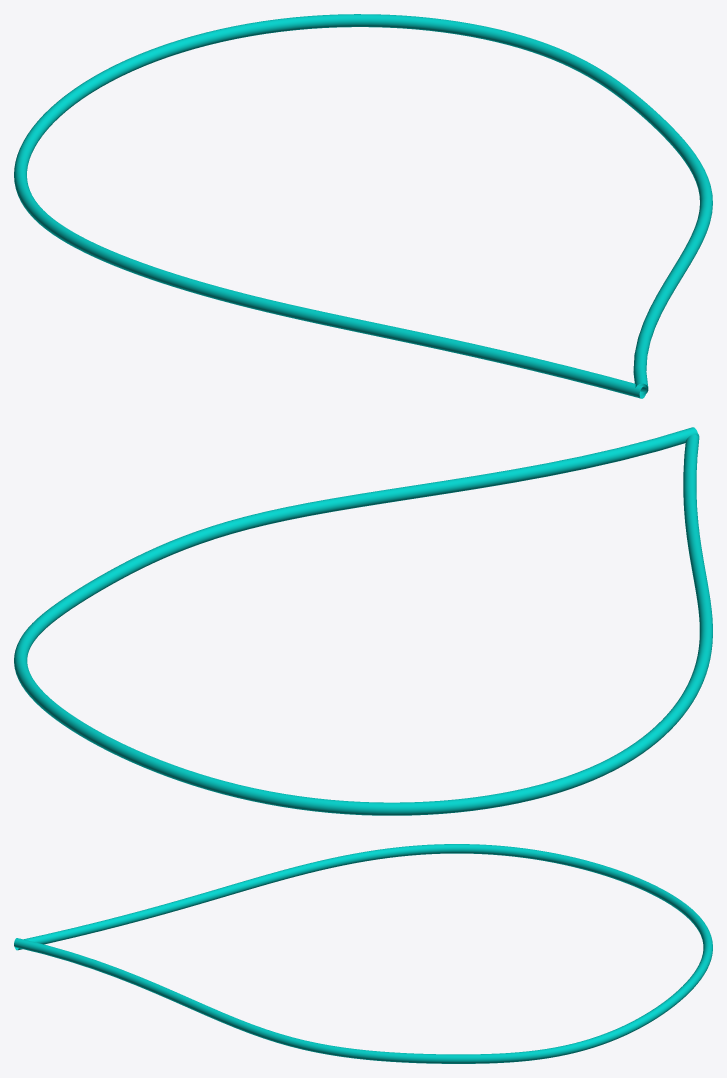
File: car02_circle.dae
3 views of the same model, one above another, from view 1: azimuth 30°, elevation 25°; view 2: azimuth 150°, elevation 25°; view 3: azimuth 270°, elevation 25° (orthographic). The views are drawn at different scales.
Parts seen in each view (by area): view 1: NurbsPath; view 2: NurbsPath; view 3: NurbsPath.
Part boxes in pixels (x1,y1,x2,y2): NurbsPath: (14,14,712,398); NurbsPath: (14,427,712,815); NurbsPath: (14,844,712,1063).
Bounding box in the file's own units: 18.09 × 25.49 × 0.8125.
